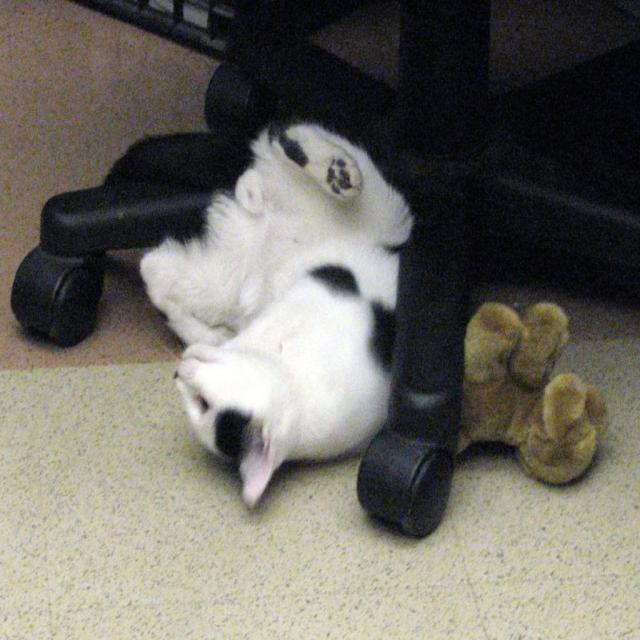Cat: (134, 113, 418, 507)
